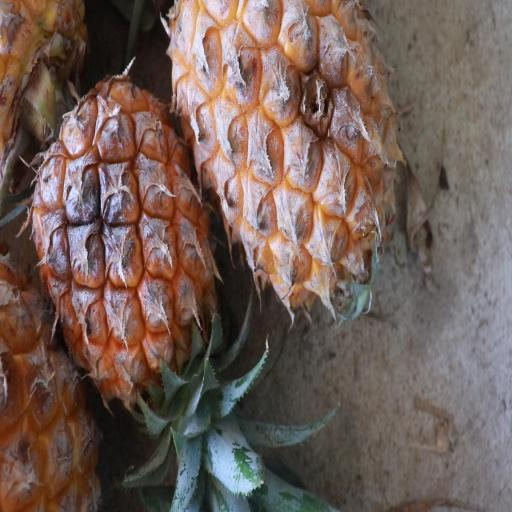Pineapple - v8 v1: (164, 0, 404, 327), (27, 61, 218, 466)
